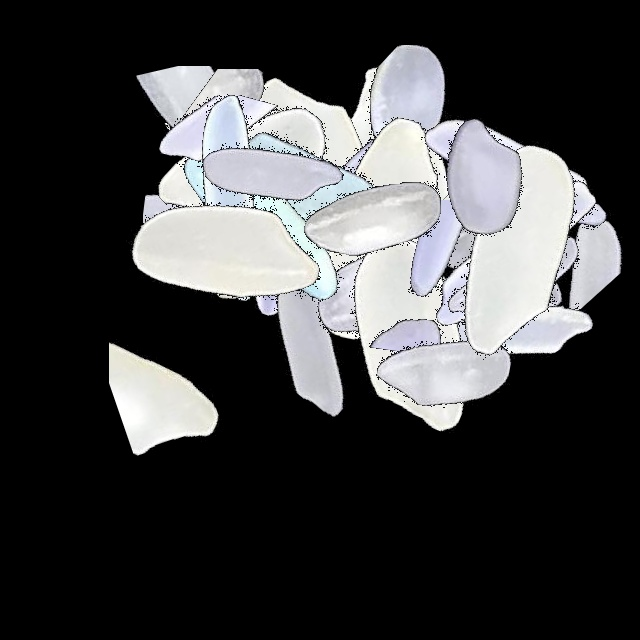Broken: (309, 45, 559, 210), (191, 81, 351, 331), (143, 94, 298, 344), (400, 222, 555, 472), (482, 114, 623, 364), (109, 246, 246, 496), (60, 66, 310, 195), (123, 69, 373, 190), (105, 95, 355, 208), (321, 200, 571, 312), (409, 75, 515, 325), (368, 171, 618, 277), (356, 175, 459, 425), (326, 92, 426, 342), (285, 180, 535, 277), (108, 150, 358, 241), (390, 193, 640, 281), (274, 38, 355, 288), (102, 123, 352, 200)
Full: (277, 41, 527, 291), (125, 55, 375, 305), (156, 79, 406, 329), (192, 37, 442, 287), (390, 120, 640, 370), (148, 108, 398, 358), (222, 156, 472, 406), (366, 199, 616, 449), (385, 100, 635, 350), (135, 97, 385, 347), (206, 84, 456, 334), (187, 216, 437, 466), (390, 106, 640, 356), (257, 106, 507, 356), (364, 110, 614, 360), (390, 50, 640, 300), (118, 72, 368, 322), (260, 166, 510, 416), (123, 40, 373, 290), (174, 69, 424, 319), (291, 205, 541, 455), (390, 126, 640, 376), (316, 248, 566, 498), (390, 155, 640, 405), (390, 122, 640, 372), (140, 99, 390, 349), (104, 73, 354, 323), (246, 95, 496, 345), (95, 129, 345, 379), (147, 46, 397, 296), (357, 50, 607, 300)
